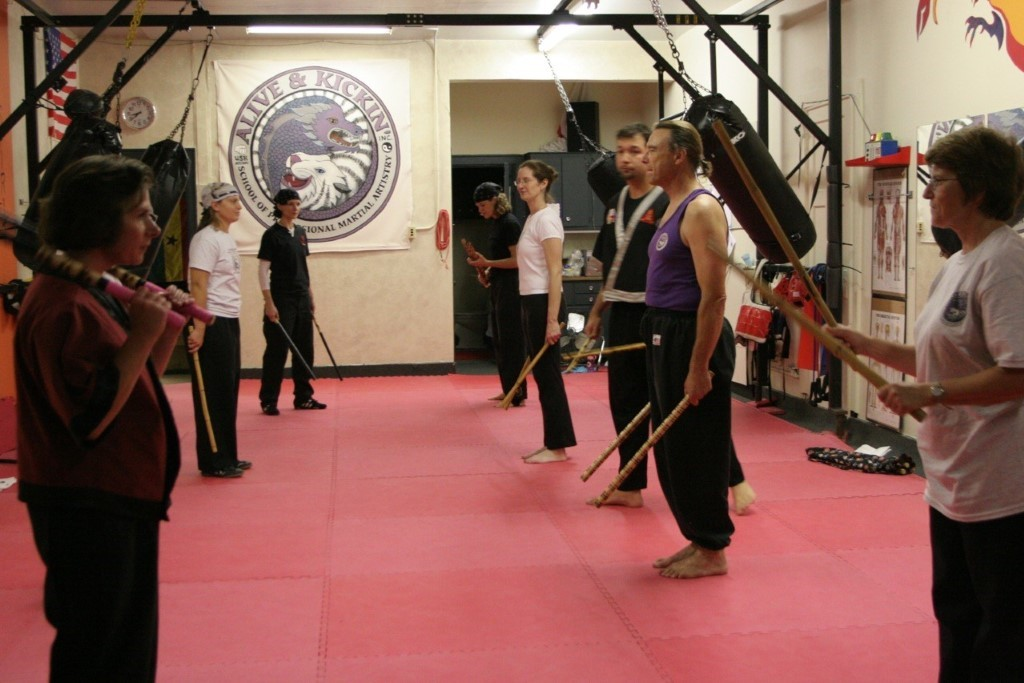baston_e: (711, 241, 914, 420), (710, 129, 841, 322), (4, 213, 207, 322), (2, 224, 173, 330), (602, 385, 690, 509), (586, 400, 647, 480), (189, 351, 218, 446), (504, 341, 544, 404), (273, 321, 316, 376), (308, 316, 344, 377), (569, 339, 646, 360), (461, 244, 488, 279), (567, 338, 592, 368)
baston_v: (907, 407, 932, 430), (200, 308, 222, 331), (705, 115, 727, 133), (172, 315, 189, 334), (702, 238, 719, 254), (592, 495, 605, 513), (706, 367, 717, 379), (577, 472, 587, 483), (498, 399, 508, 410), (210, 446, 220, 455), (311, 376, 320, 384), (560, 353, 569, 361), (460, 237, 468, 245), (564, 367, 574, 373), (336, 377, 345, 383)
